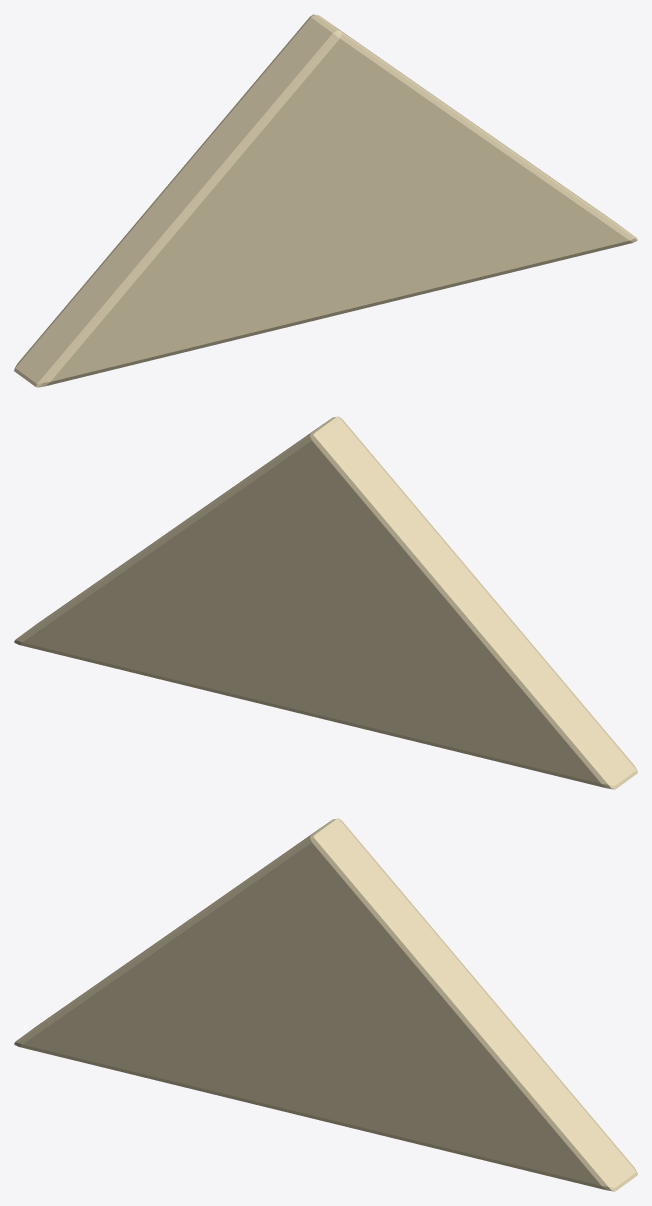
File: gable_end_2m__finish.glb
The picture shows the model from 3 angles, top to bottom: view 1: azimuth 30°, elevation 25°; view 2: azimuth 150°, elevation 25°; view 3: azimuth 330°, elevation 25°; orthographic projection.
Parts seen in each view (by area): view 1: gable_end_2m__finish__mesh_00; view 2: gable_end_2m__finish__mesh_00; view 3: gable_end_2m__finish__mesh_00.
Part boxes in pixels (x1,y1,x2,y2): gable_end_2m__finish__mesh_00: [14, 14, 637, 387]; gable_end_2m__finish__mesh_00: [14, 416, 637, 789]; gable_end_2m__finish__mesh_00: [14, 818, 637, 1191].
Bounding box in the file's own units: 1.98 × 0.893 × 0.16.
